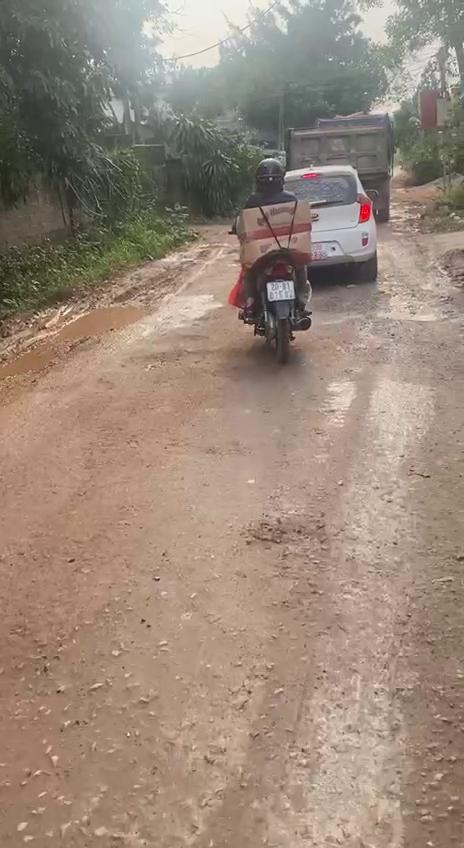pothole: (2, 301, 160, 384)
